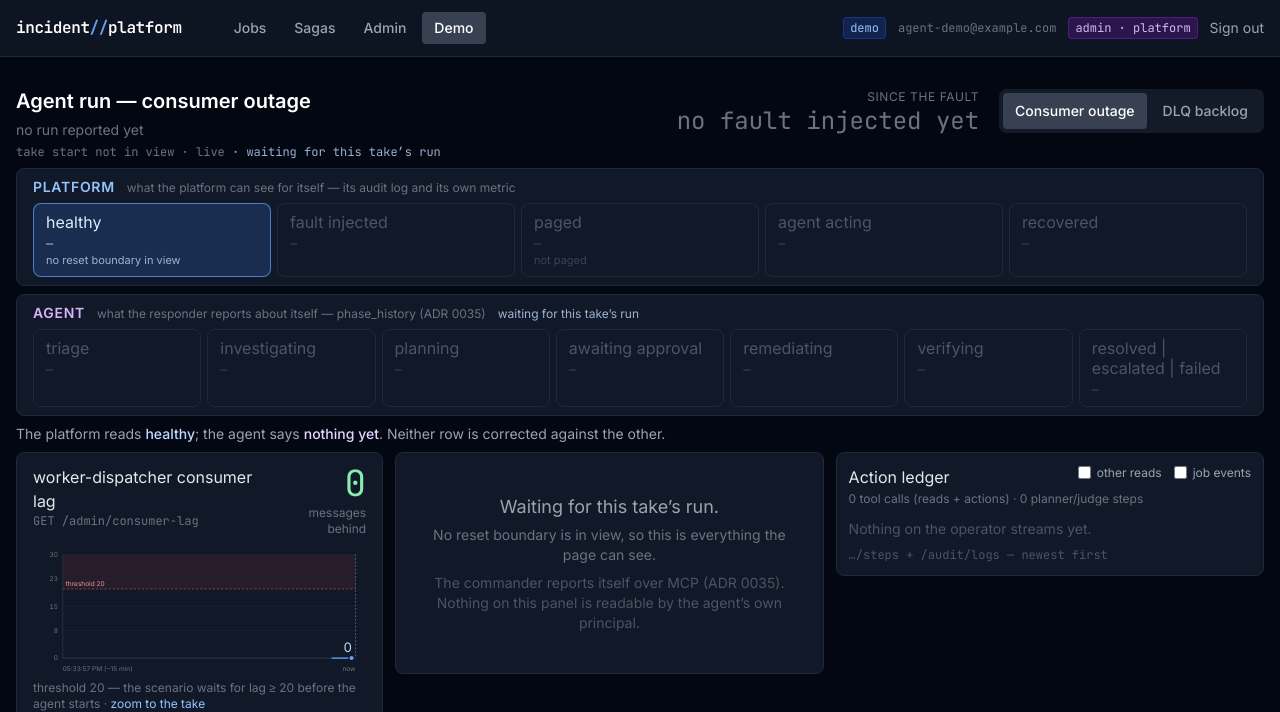
Test: DemoPage — the shape of the page › switches mode from the header and keeps the URL in step
Click the button "DLQ backlog" at (1205, 111), box [1151,93,1260,129]
(page scrolled)
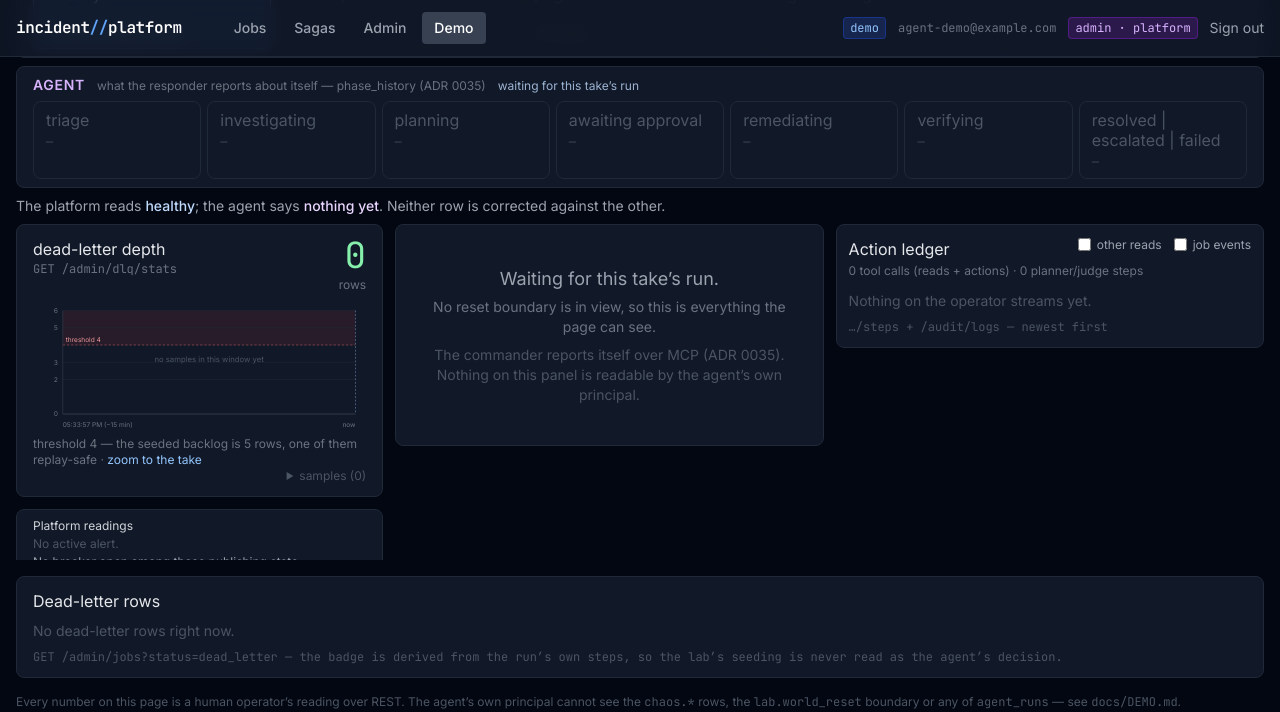
Expected: the element with test id "metric-chart-dlq" is shown, [16,224,383,497]
